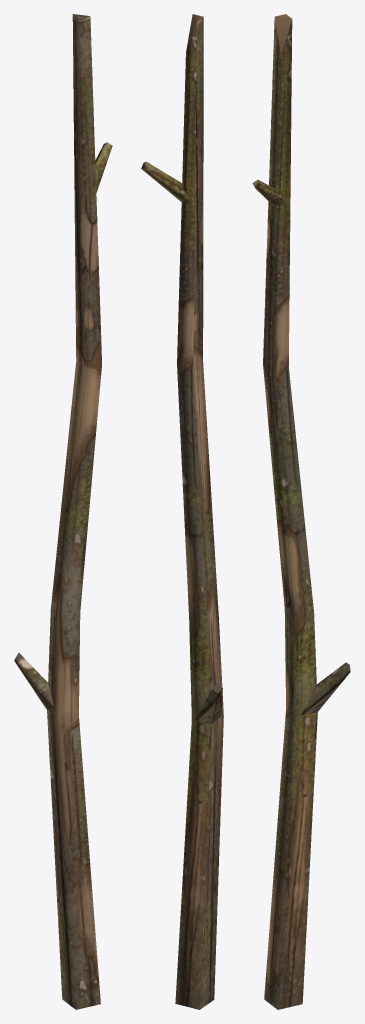
File: trellis_stick.fbx
3 views of the same model, side by side, from view 1: azimuth 90°, elevation 25°; view 2: azimuth 210°, elevation 25°; view 3: azimuth 270°, elevation 25° (orthographic).
Parts seen in each view (by area): view 1: trellis_stick; view 2: trellis_stick; view 3: trellis_stick.
Part boxes in pixels (x1=…): trellis_stick: x1=14, y1=14, x2=112, y2=1009; trellis_stick: x1=141, y1=14, x2=223, y2=1009; trellis_stick: x1=252, y1=14, x2=350, y2=1009.
Bounding box in the file's own units: 10.73 × 176 × 15.93.
